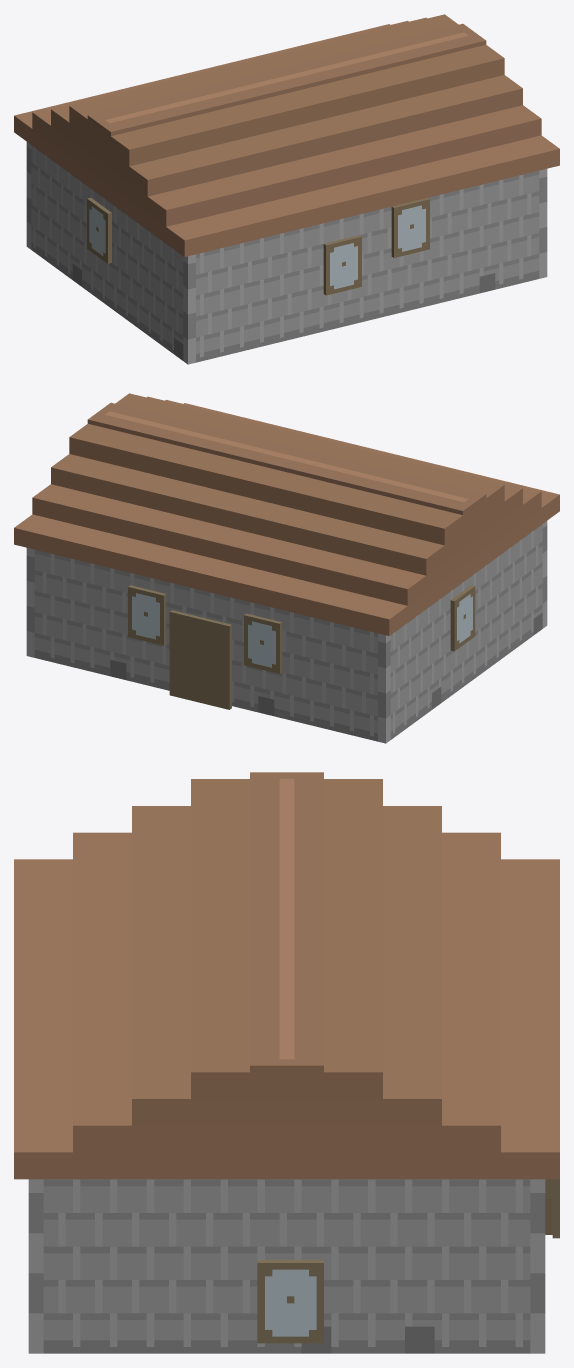
Rendered from forja_aleaciones_01.glb.
3 renders of one model, top to bottom at view 1: azimuth 30°, elevation 25°; view 2: azimuth 150°, elevation 25°; view 3: azimuth 270°, elevation 25°, orthographic. The views are drawn at different scales.
Visible parts, largest first — view 1: forja_aleaciones_01; view 2: forja_aleaciones_01; view 3: forja_aleaciones_01.
Boxes of the visible parts, left/top/right/bottom form: forja_aleaciones_01: left=14, top=14, right=559, bottom=364; forja_aleaciones_01: left=14, top=393, right=559, bottom=743; forja_aleaciones_01: left=14, top=772, right=559, bottom=1353.
Size of the model in its own units: 9.4 by 4.4 by 7.4.
